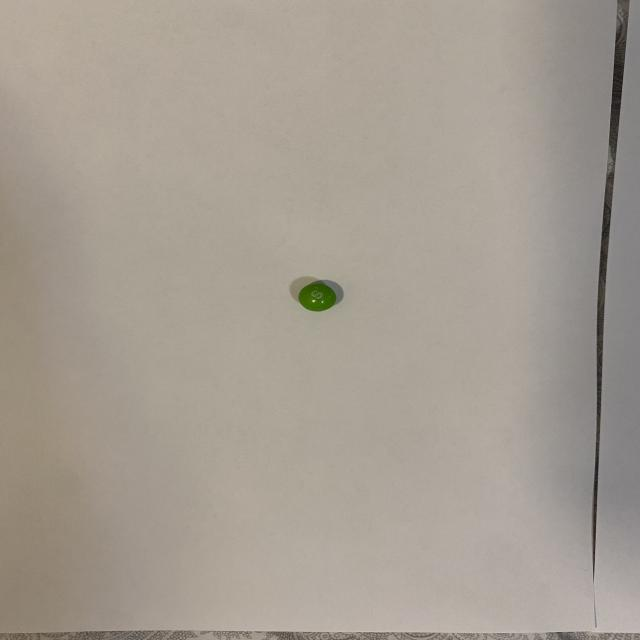smartie: (298, 283, 336, 311)
